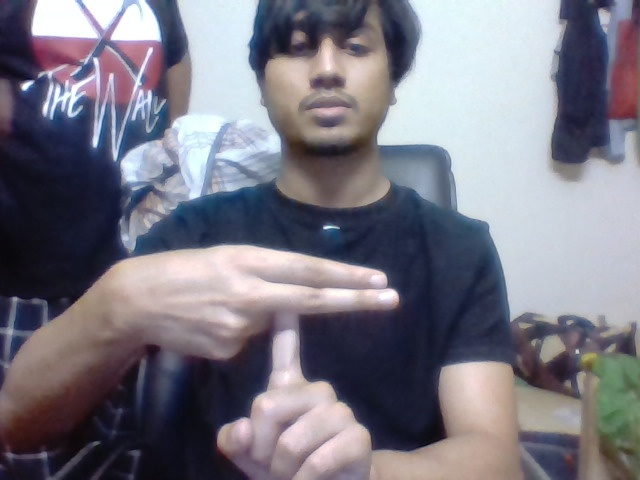F: (263, 241, 402, 378)
